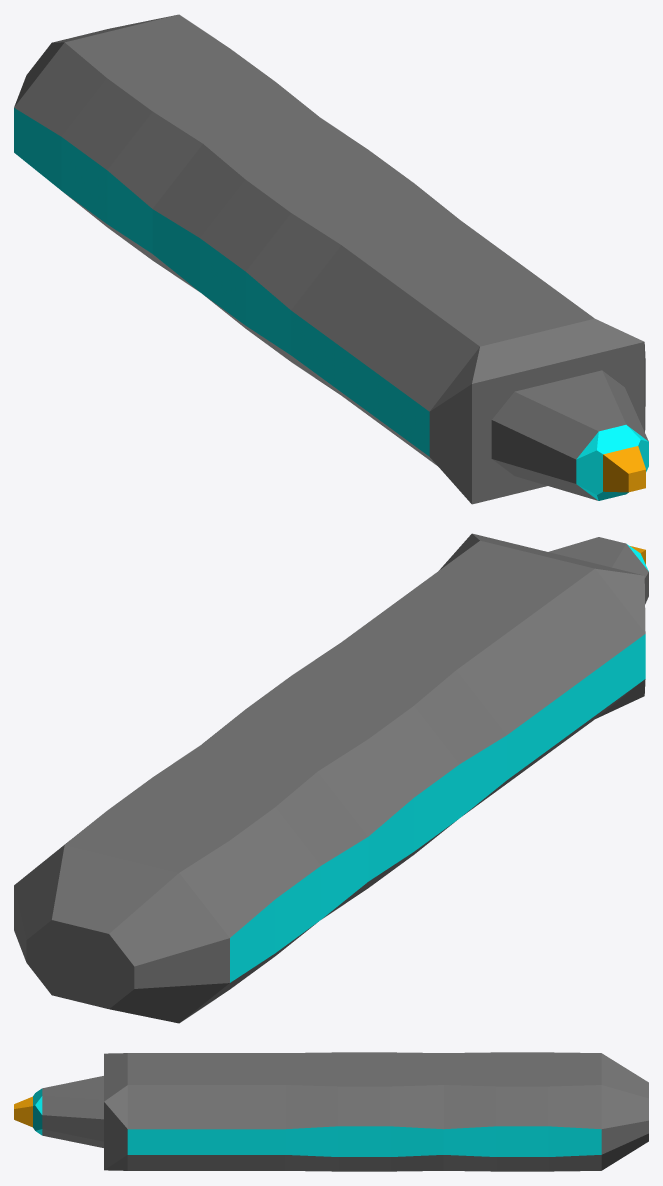
The model's file is laser.fbx.
3 renders of one model, top to bottom at view 1: azimuth 30°, elevation 25°; view 2: azimuth 150°, elevation 25°; view 3: azimuth 270°, elevation 25°, orthographic. The views are drawn at different scales.
Parts seen in each view (by area): view 1: laser; view 2: laser; view 3: laser.
Part boxes in pixels (x1=…): laser: x1=14, y1=14, x2=648, y2=504; laser: x1=14, y1=533, x2=648, y2=1023; laser: x1=14, y1=1052, x2=648, y2=1171.
Bounding box in the file's own units: 30 × 20 × 134.
